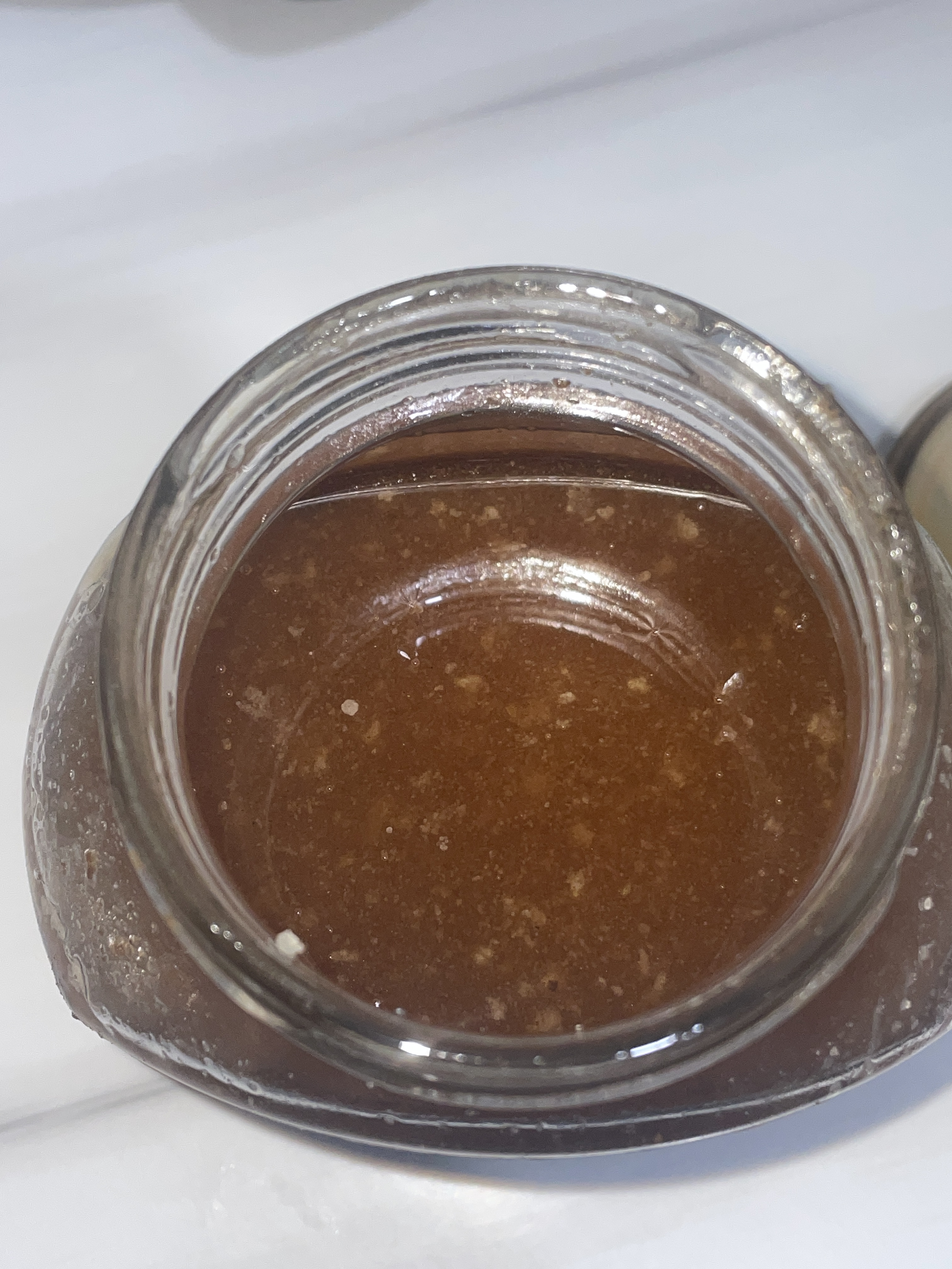non-reusable: (186, 409, 850, 1035)
